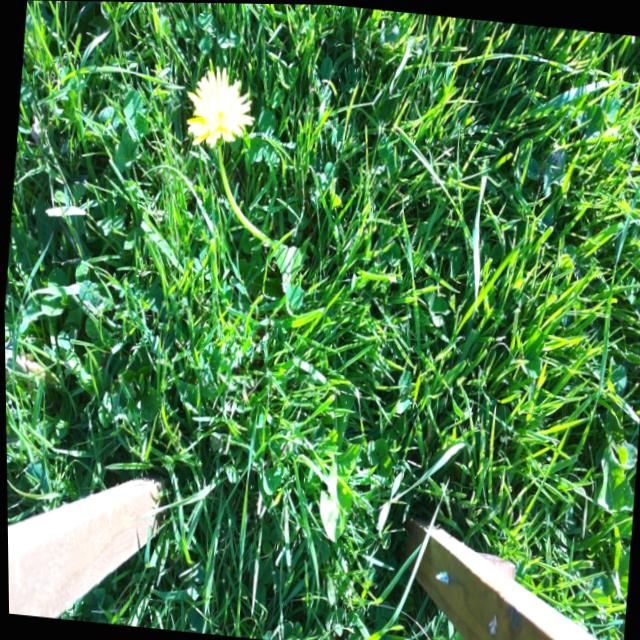base: (262, 221, 289, 266)
flower: (184, 64, 256, 151)
